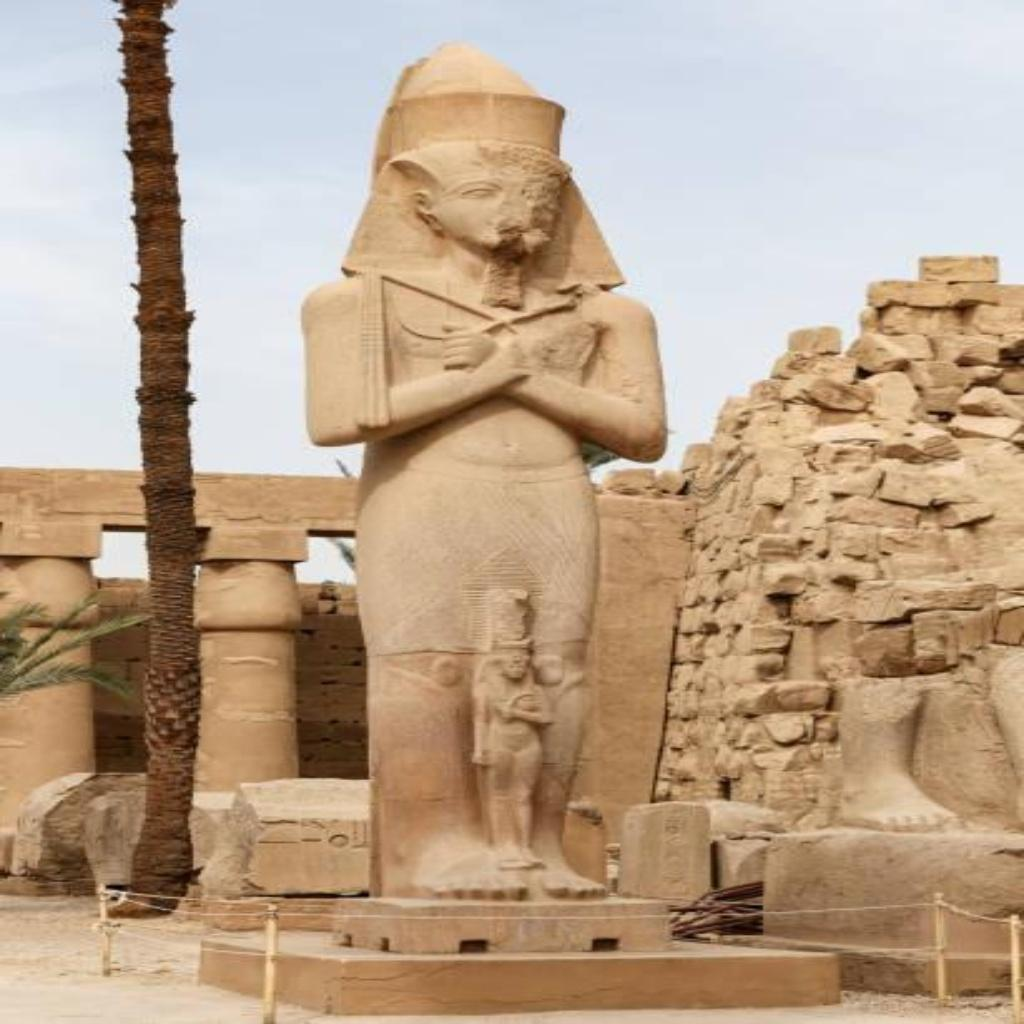Standing Statue of King Ramses II: (294, 40, 672, 904)
